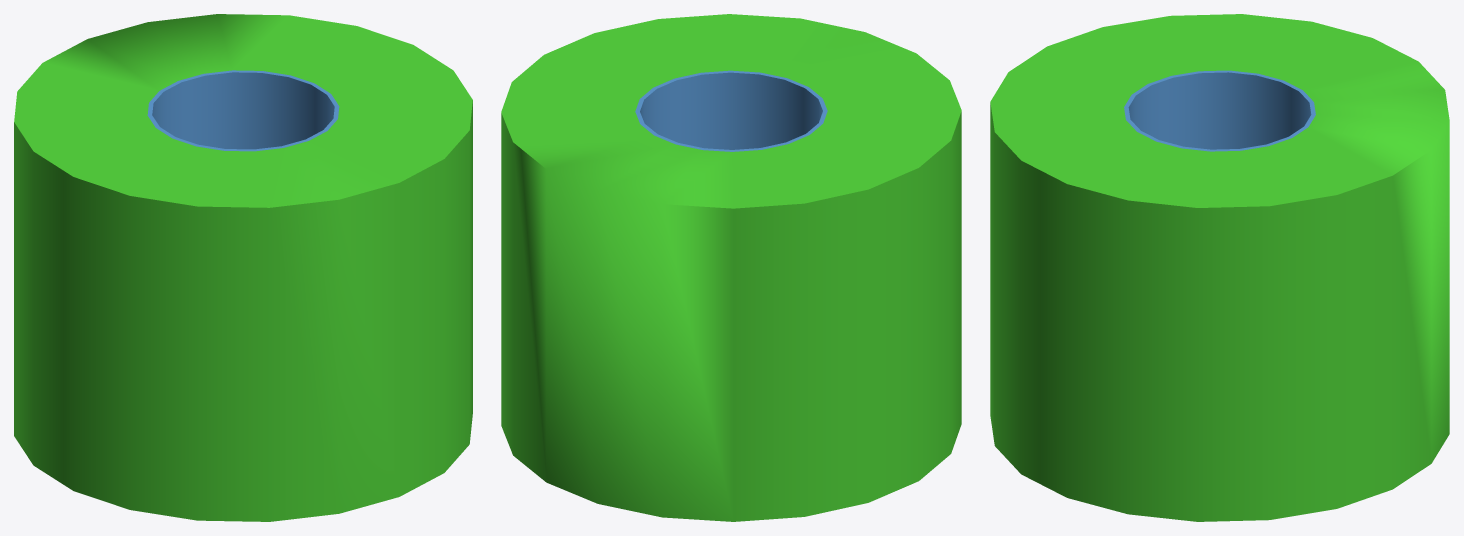
The model's file is toaletak_not_long.fbx.
3 views of the same model, side by side, from view 1: azimuth 30°, elevation 25°; view 2: azimuth 150°, elevation 25°; view 3: azimuth 270°, elevation 25° (orthographic).
Visible parts, largest first — view 1: Cylinder; view 2: Cylinder; view 3: Cylinder.
Boxes of the visible parts, <box> form: Cylinder: <box>14,14,472,521</box>; Cylinder: <box>501,14,961,521</box>; Cylinder: <box>990,14,1449,521</box>.
Size of the model in its own units: 14.98 by 11.3 by 14.98.
